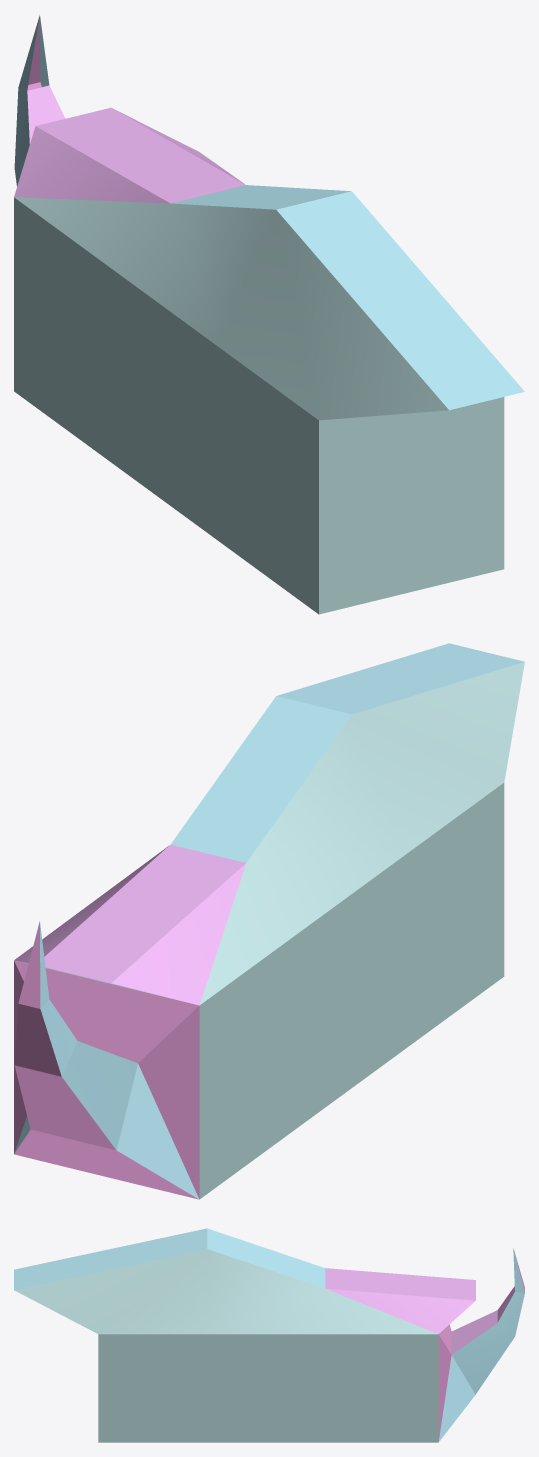
3 views of the same model, one above another, from view 1: azimuth 30°, elevation 25°; view 2: azimuth 150°, elevation 25°; view 3: azimuth 270°, elevation 25° (orthographic). The views are drawn at different scales.
Visible parts, largest first — view 1: Object18; view 2: Object18; view 3: Object18.
Part boxes in pixels (left/top/right/bottom): Object18: left=14, top=15, right=524, bottom=614; Object18: left=14, top=643, right=524, bottom=1199; Object18: left=14, top=1228, right=524, bottom=1442.
Bounding box in the file's own units: 10000 × 16486 × 42737.
